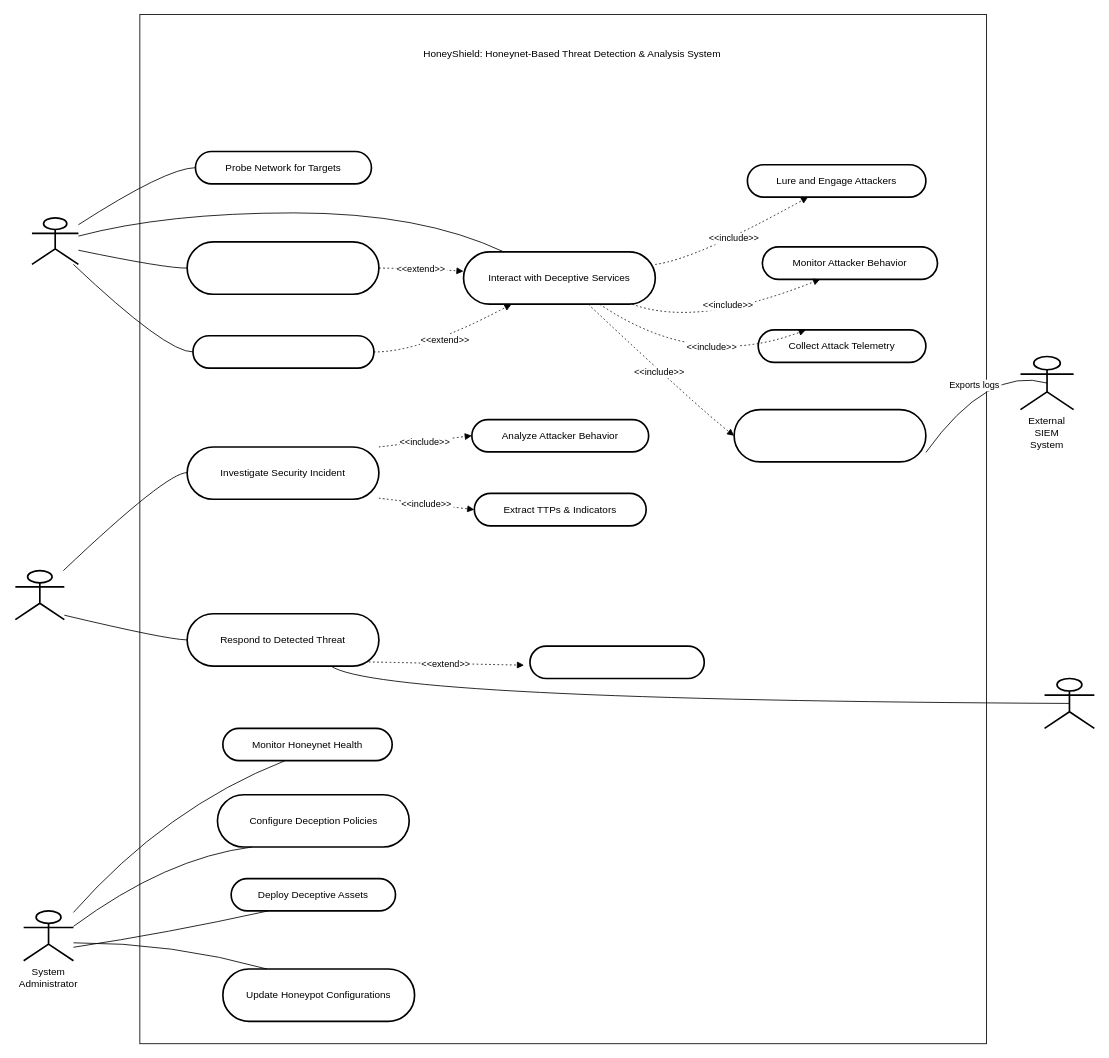
The diagram is 1109 pixels wide and 1058 high, and some of its shapes have lost their labels. Here are the shapes that lost their labels. From the top down, the centre of each, then its label:
pixel 55 241: Attacker
pixel 282 268: Attempt Privilege Escalation
pixel 283 351: Attempt Lateral Movement
pixel 829 435: Generate Threat Intelligence Reports
pixel 39 594: Security Analyst
pixel 617 662: Enforce Network Isolation
pixel 1069 703: External EDR Platform
